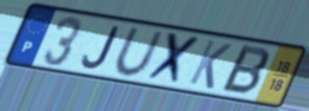3: (42, 14, 83, 69)
B: (218, 43, 272, 98)
J: (81, 25, 121, 71)
K: (186, 38, 235, 92)
U: (113, 26, 166, 79)
X: (142, 29, 204, 88)
